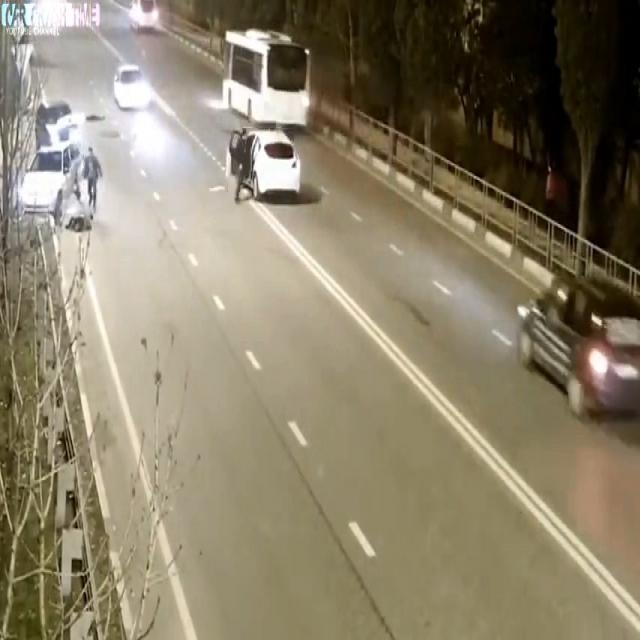Accident: (34, 92, 130, 287)
